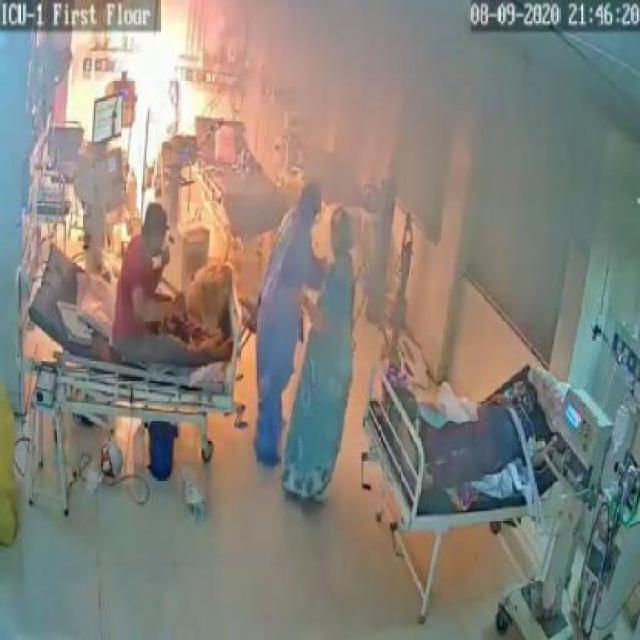fire: (114, 12, 203, 182)
smoke: (269, 2, 640, 250)
